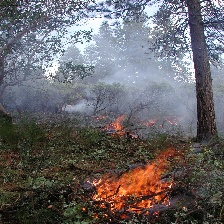fire: (96, 153, 186, 215), (111, 114, 133, 138)
smoke: (60, 40, 198, 129)
